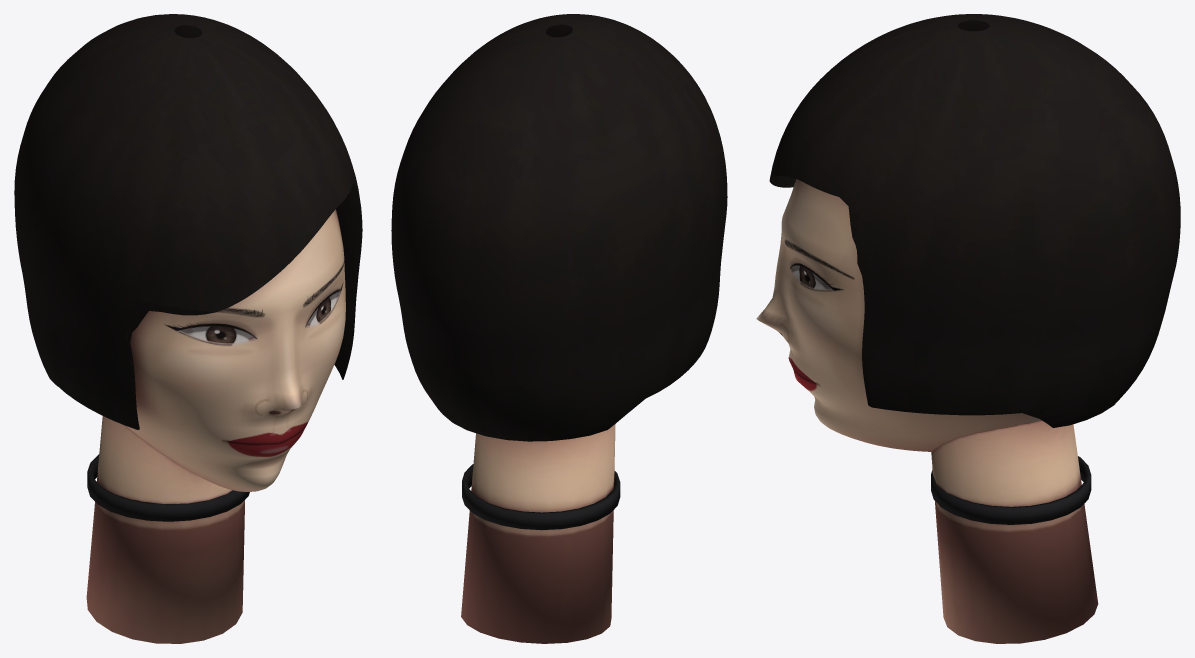
File: cabeza-ada-f.glb
3 renders of one model, left to right at view 1: azimuth 30°, elevation 25°; view 2: azimuth 150°, elevation 25°; view 3: azimuth 270°, elevation 25°, orthographic. The views are drawn at different scales.
Parts seen in each view (by area): view 1: h_Head; view 2: h_Head; view 3: h_Head.
Boxes of the visible parts, x1=… form: h_Head: x1=14, y1=14, x2=362, y2=643; h_Head: x1=391, y1=14, x2=727, y2=643; h_Head: x1=756, y1=14, x2=1180, y2=643.
Bounding box in the file's own units: 0.1596 × 0.3277 × 0.2131.
Materials: 1 (1 with a texture image).
